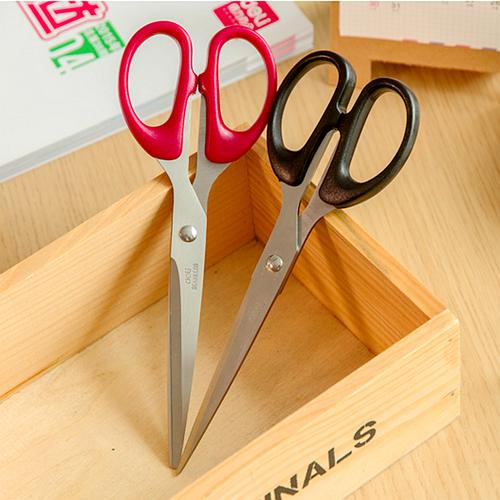scissor: (177, 48, 420, 476), (121, 20, 280, 469)
